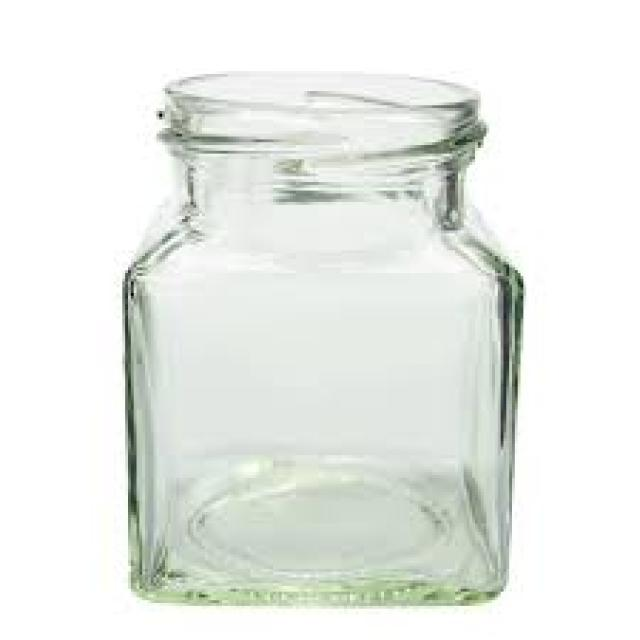glass: (120, 71, 521, 603)
